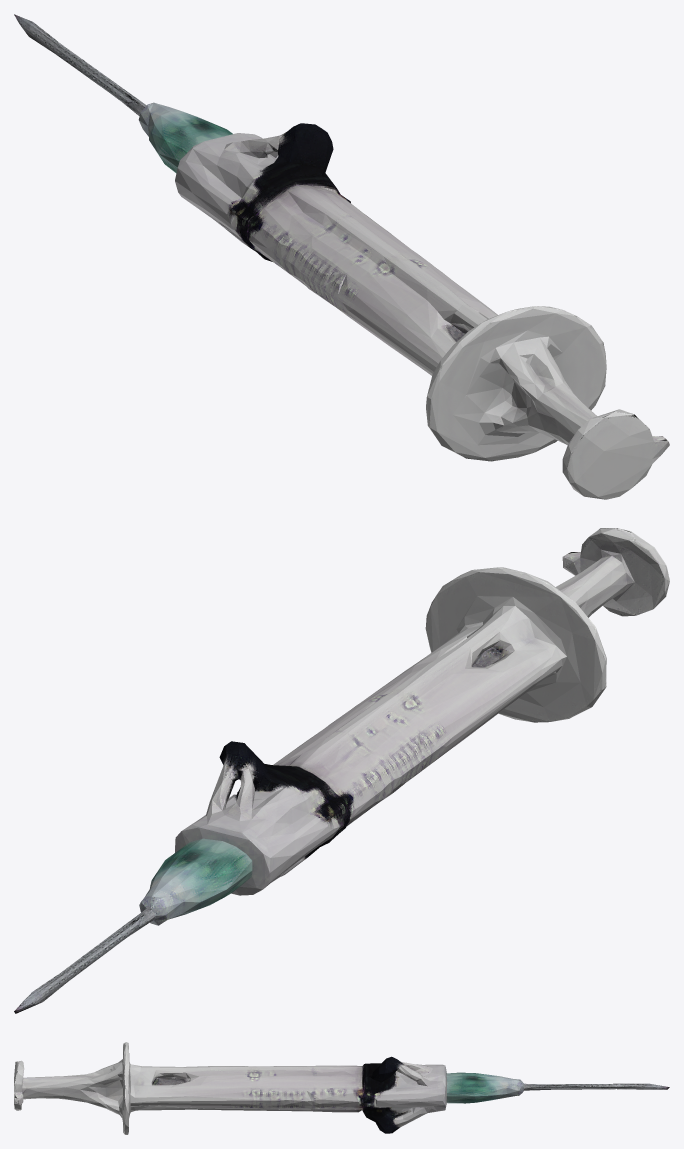
The model's file is imjection.fbx.
3 views of the same model, one above another, from view 1: azimuth 30°, elevation 25°; view 2: azimuth 150°, elevation 25°; view 3: azimuth 270°, elevation 25° (orthographic). The views are drawn at different scales.
Visible parts, largest first — view 1: geometry_0; view 2: geometry_0; view 3: geometry_0.
Boxes of the visible parts, x1=… form: geometry_0: x1=14, y1=14, x2=669, y2=499; geometry_0: x1=14, y1=528, x2=669, y2=1013; geometry_0: x1=14, y1=1042, x2=669, y2=1134.
Size of the model in its own units: 0.1704 by 0.1355 by 0.9985.
1 material, 1 textured.
